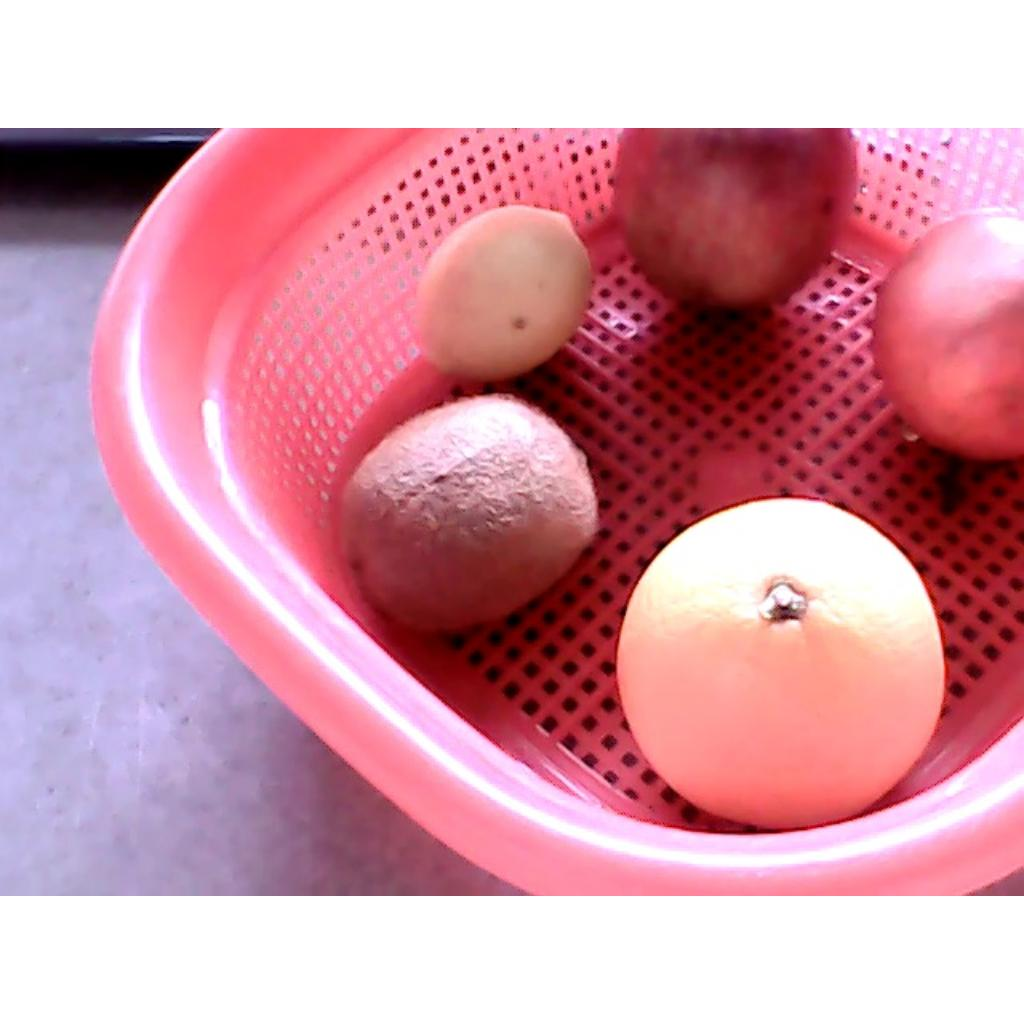apple: (611, 129, 860, 313)
kiwi: (341, 392, 597, 631)
lemon: (410, 202, 594, 383)
orange: (617, 496, 948, 828)
pomegranate: (873, 209, 1022, 463)
